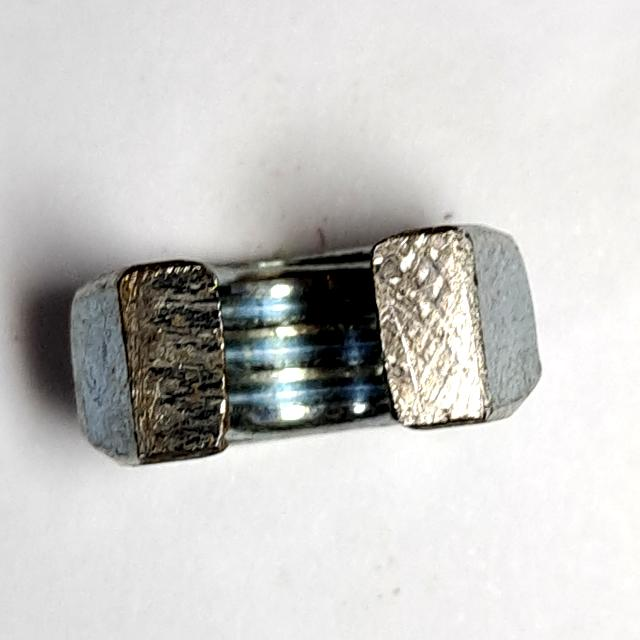Side-Fracture: (55, 213, 559, 480)
